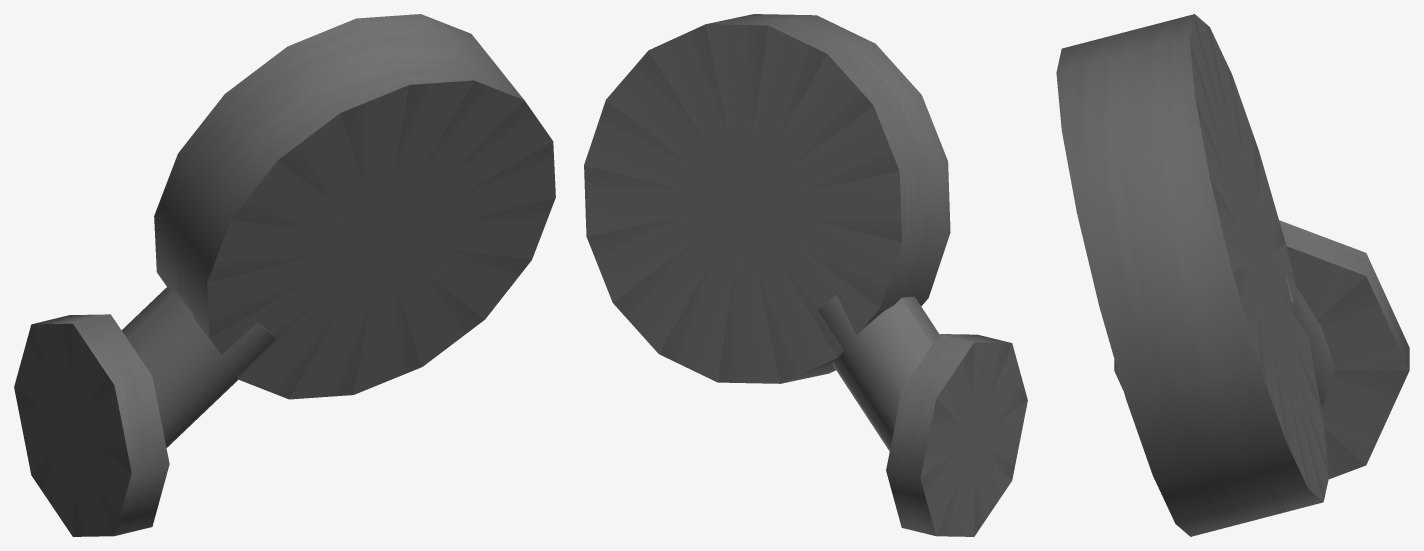
Rendered from mastarmcurve_8x2_c4_west.obj.
3 renders of one model, left to right at view 1: azimuth 30°, elevation 25°; view 2: azimuth 150°, elevation 25°; view 3: azimuth 270°, elevation 25°, orthographic. The views are drawn at different scales.
Parts seen in each view (by area): view 1: mastarm_8x2_c4_west; view 2: mastarm_8x2_c4_west; view 3: mastarm_8x2_c4_west.
Boxes of the visible parts, bbox=[...] form: mastarm_8x2_c4_west: bbox=[14, 14, 555, 536]; mastarm_8x2_c4_west: bbox=[584, 14, 1027, 536]; mastarm_8x2_c4_west: bbox=[1056, 14, 1409, 536].
Size of the model in its own units: 0.8415 by 0.8953 by 0.4783.
